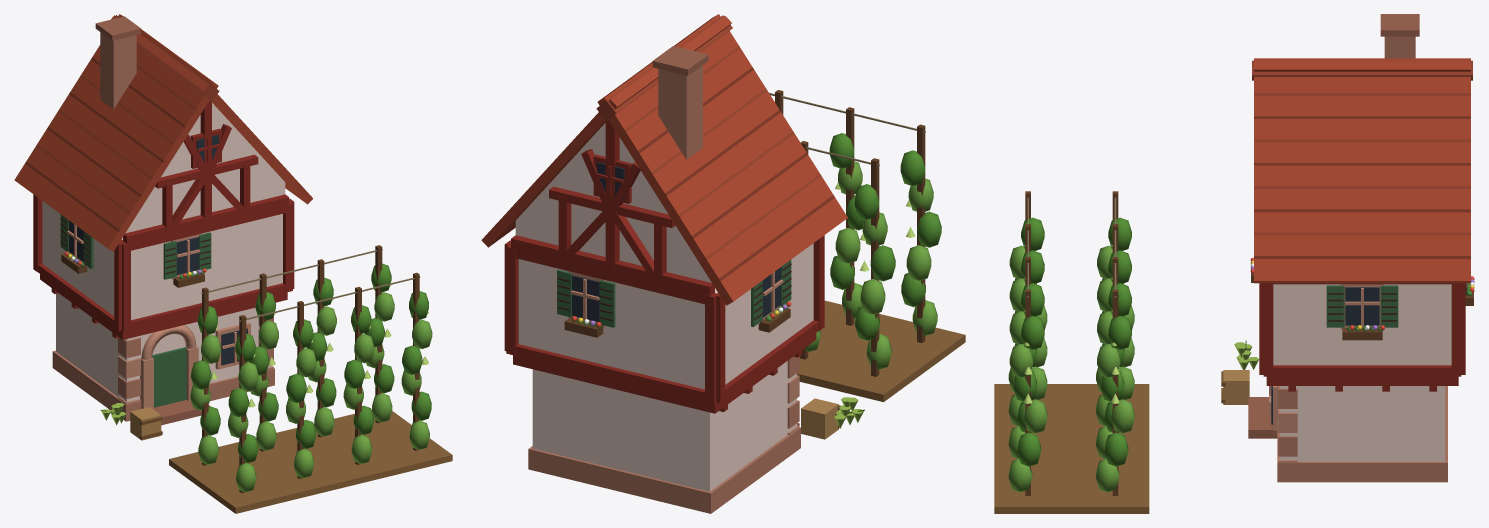
The model's file is hopfenbauer.glb.
3 views of the same model, side by side, from view 1: azimuth 30°, elevation 25°; view 2: azimuth 150°, elevation 25°; view 3: azimuth 270°, elevation 25° (orthographic). The views are drawn at different scales.
Bounding box in the file's own units: 3.37 × 4.57 × 4.96.
